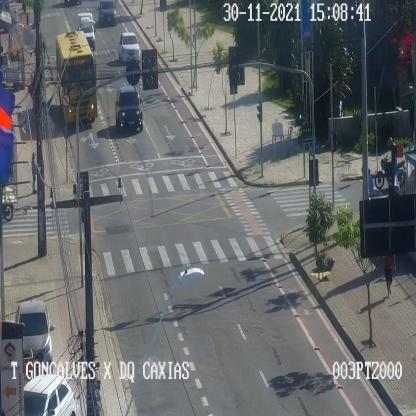bus: (56, 30, 97, 120)
car: (16, 301, 52, 373), (23, 374, 76, 415), (115, 86, 142, 131), (77, 12, 95, 49), (118, 32, 140, 62), (95, 0, 120, 25)
motorbike: (374, 137, 404, 188)
person: (383, 254, 396, 298), (365, 168, 373, 200), (31, 152, 37, 194)
